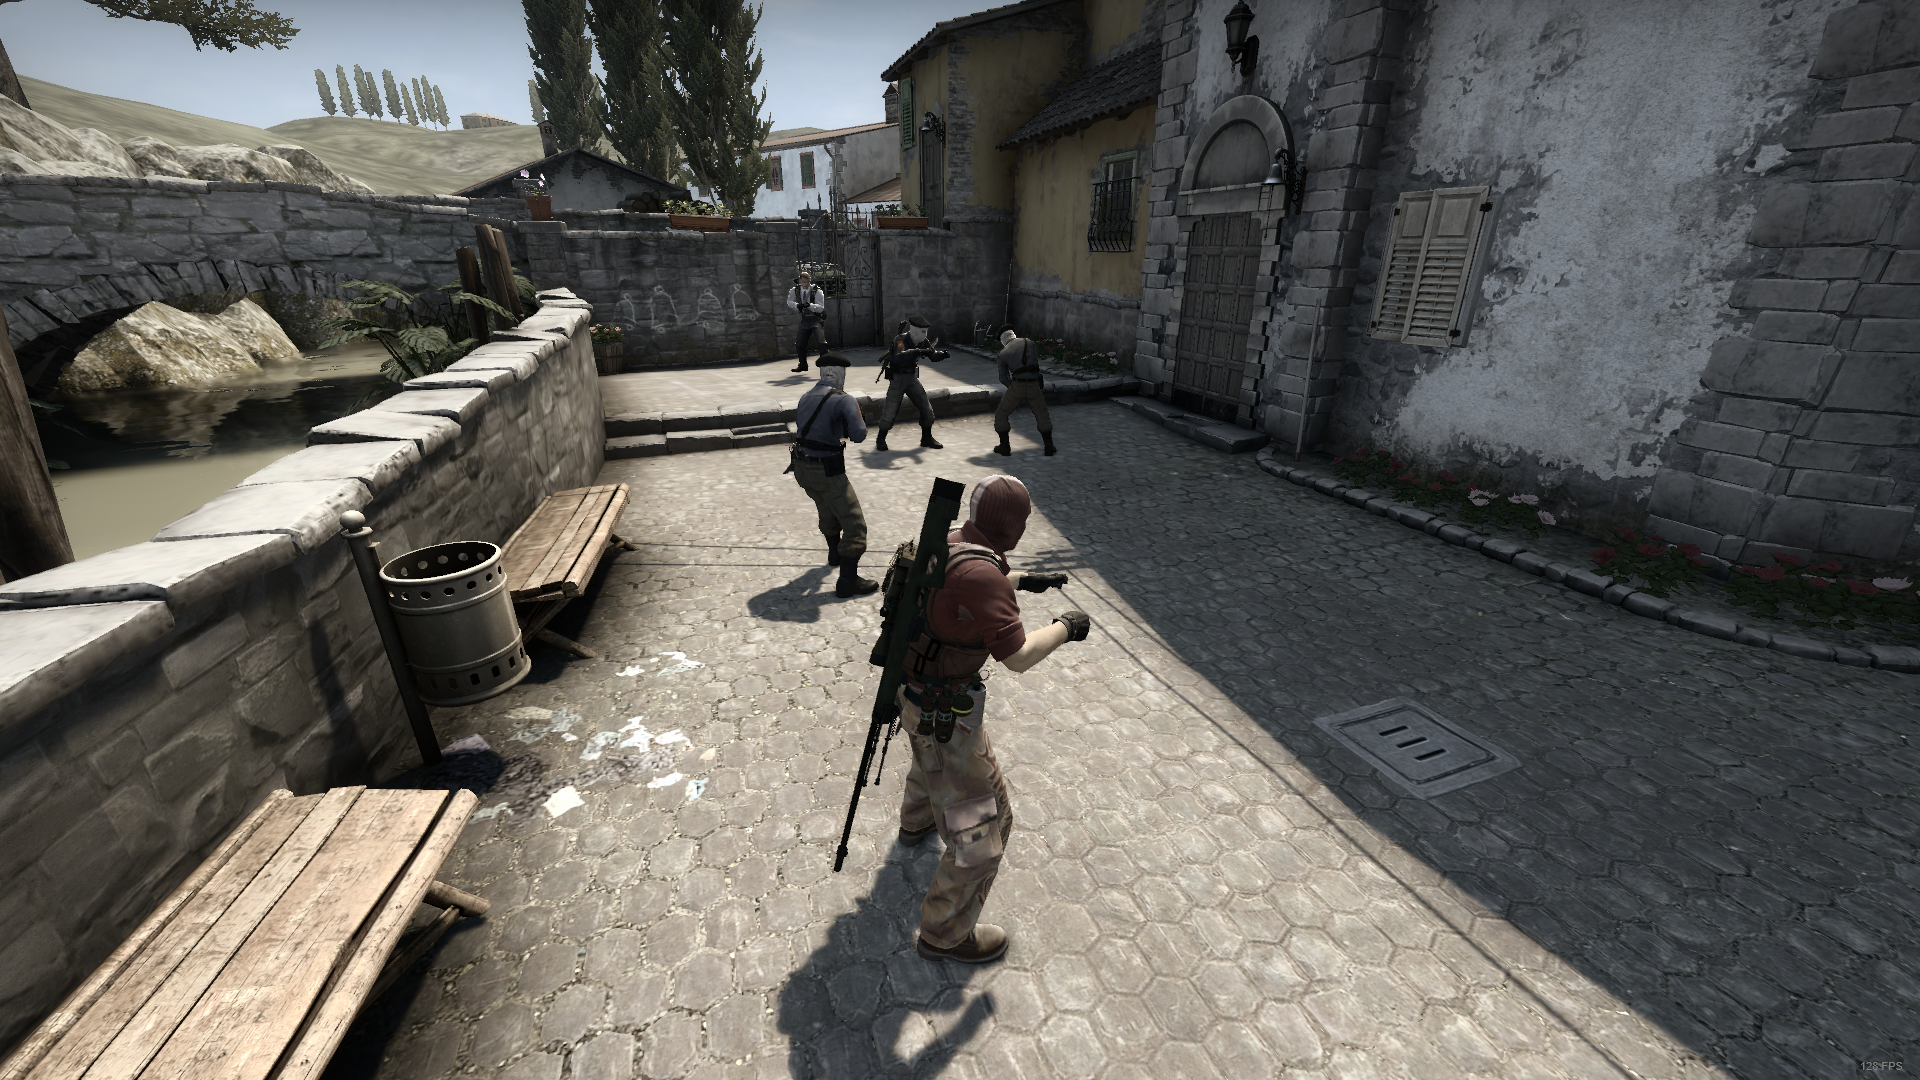t: (781, 351, 877, 597), (873, 314, 948, 460), (985, 328, 1059, 456)
